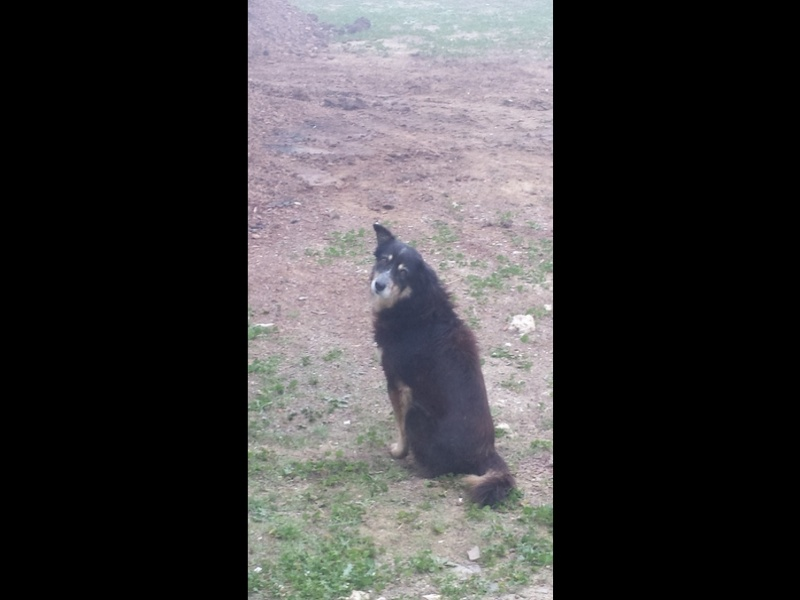dog: (365, 221, 515, 505)
